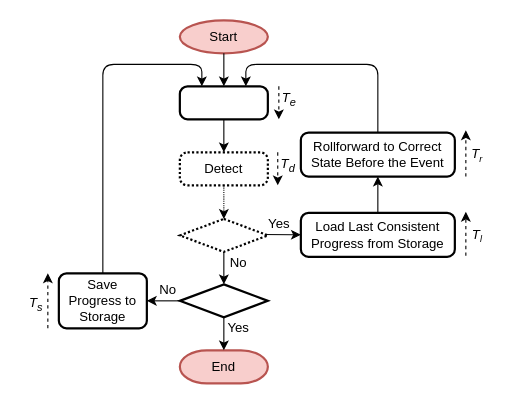
The diagram is 512 pixels wide and 403 high, and some of its shapes have lost their labels. Each missing label, with the box of its shape:
Detected?: (178, 217, 268, 252)
Execute: (178, 85, 268, 120)
Finished?: (178, 283, 268, 318)
